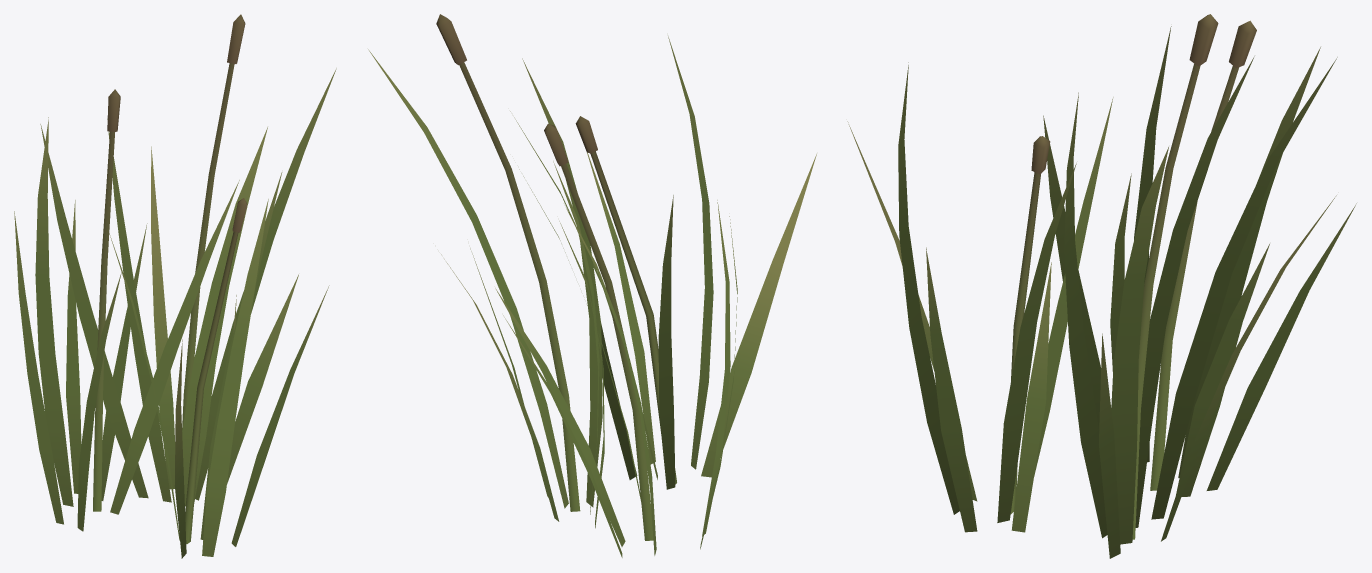
File: reed_A.glb
3 renders of one model, left to right at view 1: azimuth 30°, elevation 25°; view 2: azimuth 150°, elevation 25°; view 3: azimuth 270°, elevation 25°, orthographic. The views are drawn at different scales.
Visible parts, largest first — view 1: reed_A; view 2: reed_A; view 3: reed_A.
Boxes of the visible parts, x1,y1,x2,y2 form: reed_A: [14, 14, 336, 558]; reed_A: [368, 14, 816, 557]; reed_A: [847, 14, 1356, 558].
Size of the model in its own units: 0.747 by 0.9723 by 0.7747.
